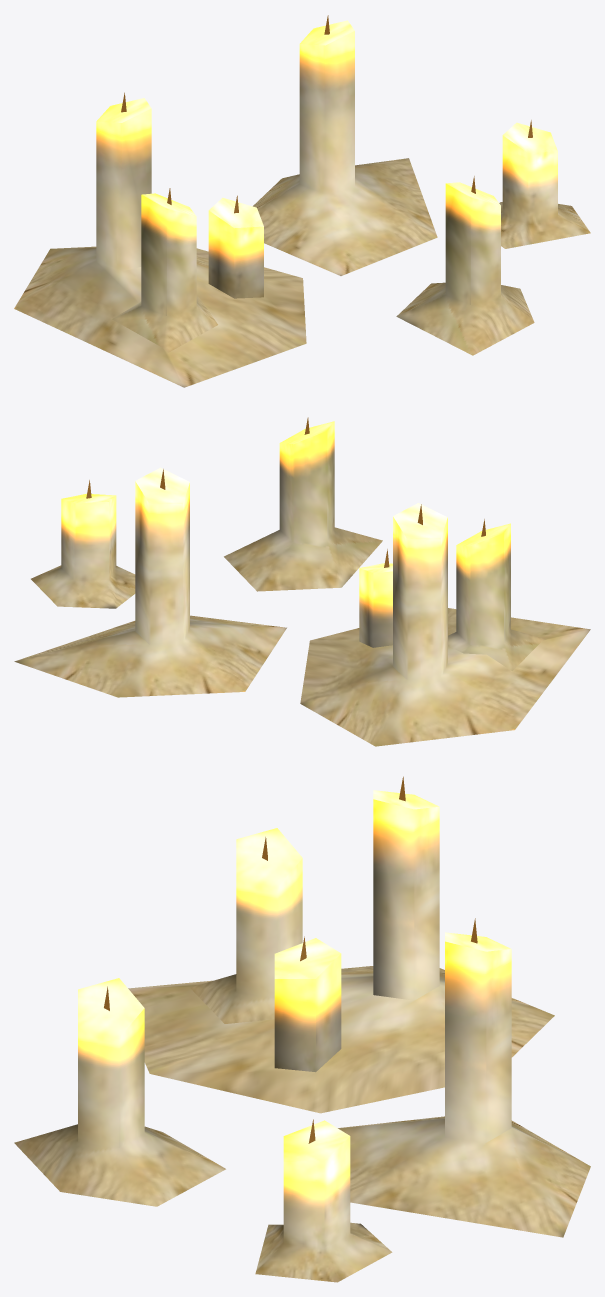
Rendered from lilin.fbx.
3 views of the same model, one above another, from view 1: azimuth 30°, elevation 25°; view 2: azimuth 150°, elevation 25°; view 3: azimuth 270°, elevation 25° (orthographic). The views are drawn at different scales.
Visible parts, largest first — view 1: Candle_03, Candle_01, Candle_02, Candle; view 2: Candle_03, Candle_01, Candle_02, Candle; view 3: Candle_03, Candle_01, Candle_02, Candle.
Part boxes in pixels (<box>): Candle_03: <box>14,92,306,387</box>; Candle_01: <box>253,15,437,275</box>; Candle_02: <box>396,176,534,355</box>; Candle: <box>499,120,590,248</box>; Candle_03: <box>300,503,590,746</box>; Candle_01: <box>14,467,286,697</box>; Candle_02: <box>224,417,382,591</box>; Candle: <box>31,480,135,608</box>; Candle_03: <box>128,776,554,1113</box>; Candle_01: <box>338,918,590,1237</box>; Candle_02: <box>14,978,225,1206</box>; Candle: <box>255,1119,392,1282</box>.
Bounding box in the file's own units: 105 × 37.77 × 79.39.
1 material, 1 textured.
